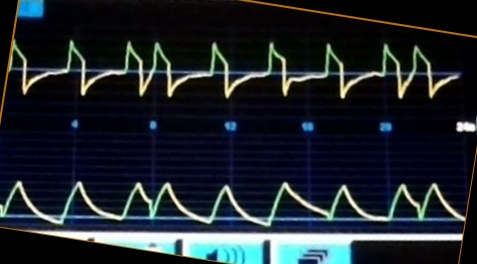Double_Triggering Flow: (36, 38, 456, 104)
Double_Triggering Volume: (18, 168, 460, 227)
